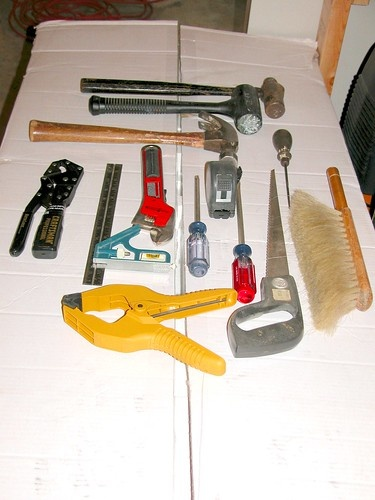hammer: (28, 111, 241, 162), (88, 84, 259, 133), (80, 76, 285, 116)
